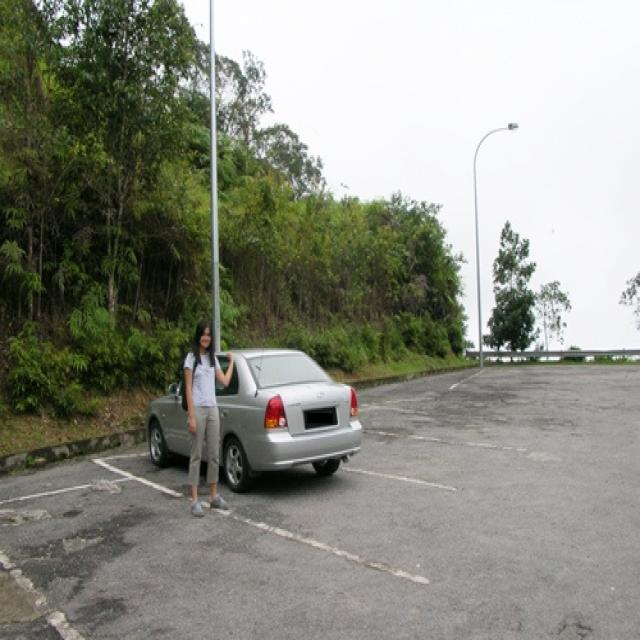car: (145, 345, 362, 495)
